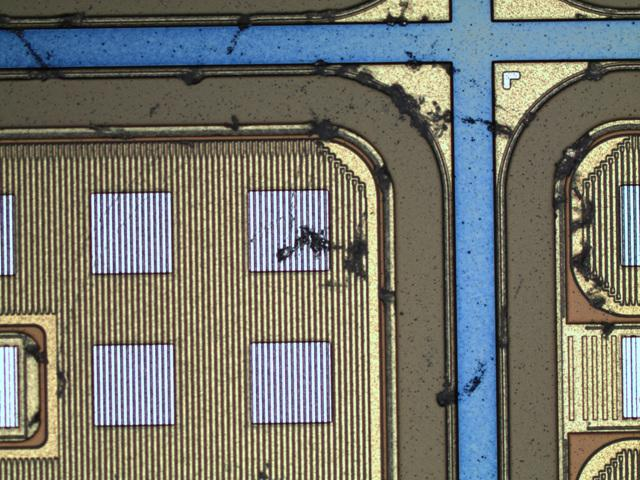SCRATCH: (1, 1, 620, 480)
